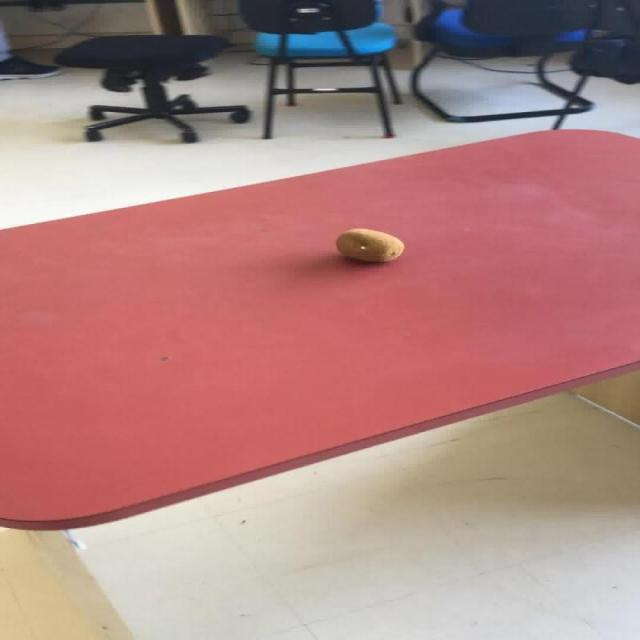Kiwi: (334, 227, 404, 262)
